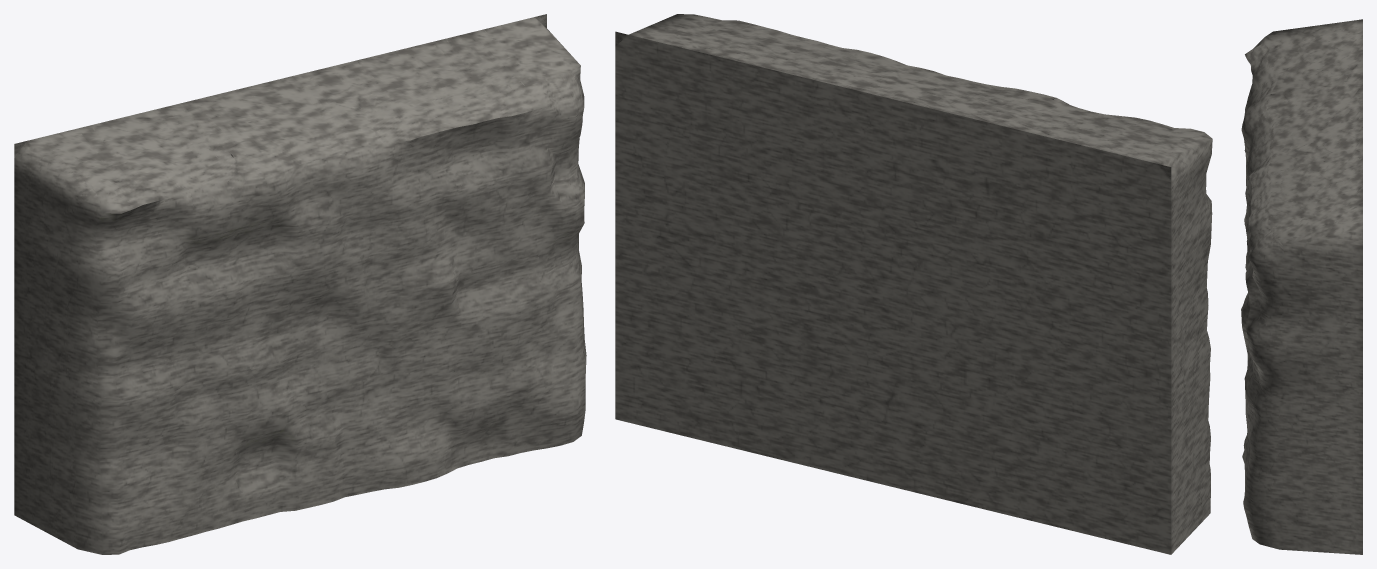
The model's file is cliff-granite.fbx.
3 renders of one model, left to right at view 1: azimuth 30°, elevation 25°; view 2: azimuth 150°, elevation 25°; view 3: azimuth 270°, elevation 25°, orthographic. The views are drawn at different scales.
Visible parts, largest first — view 1: cliff-granite; view 2: cliff-granite; view 3: cliff-granite.
Part boxes in pixels (<box>): cliff-granite: <box>14,14,586,554</box>; cliff-granite: <box>615,14,1212,554</box>; cliff-granite: <box>1241,19,1362,554</box>.
Bounding box in the file's own units: 240 × 160 × 55.48.
Materials: 1 (1 with a texture image).
